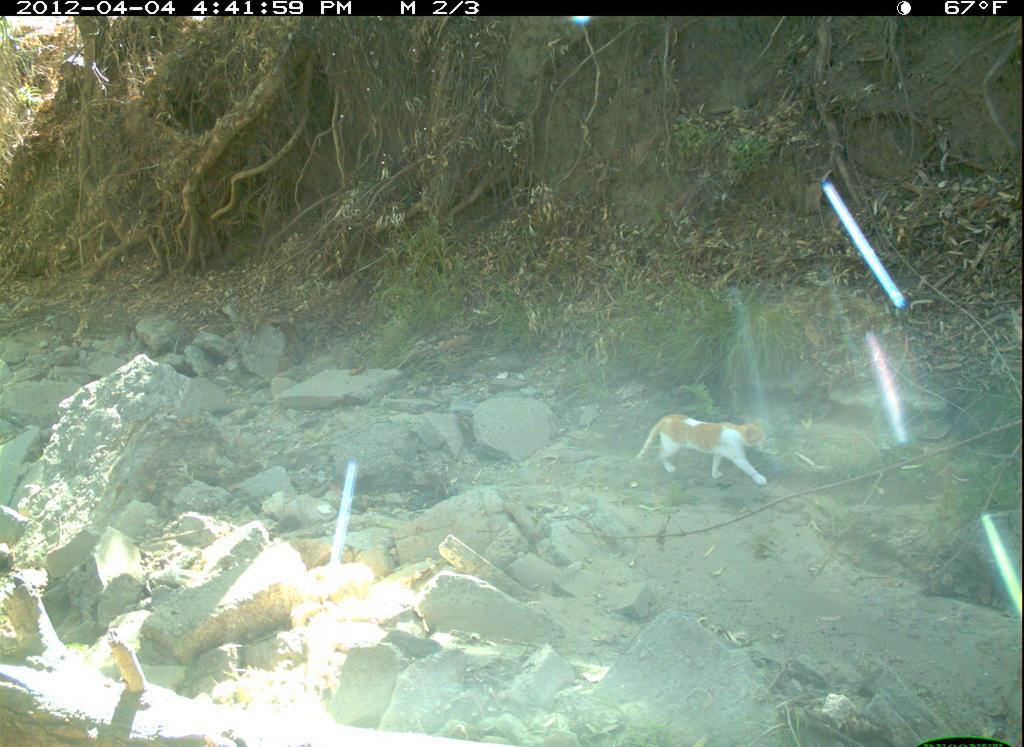cat: (625, 392, 785, 505)
